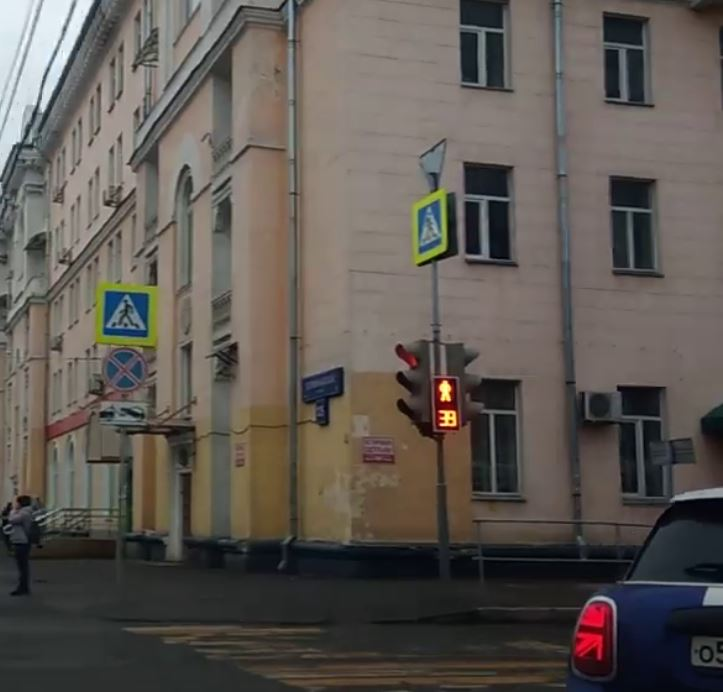Yaya Gecidi: (107, 291, 150, 337), (413, 202, 445, 252)
